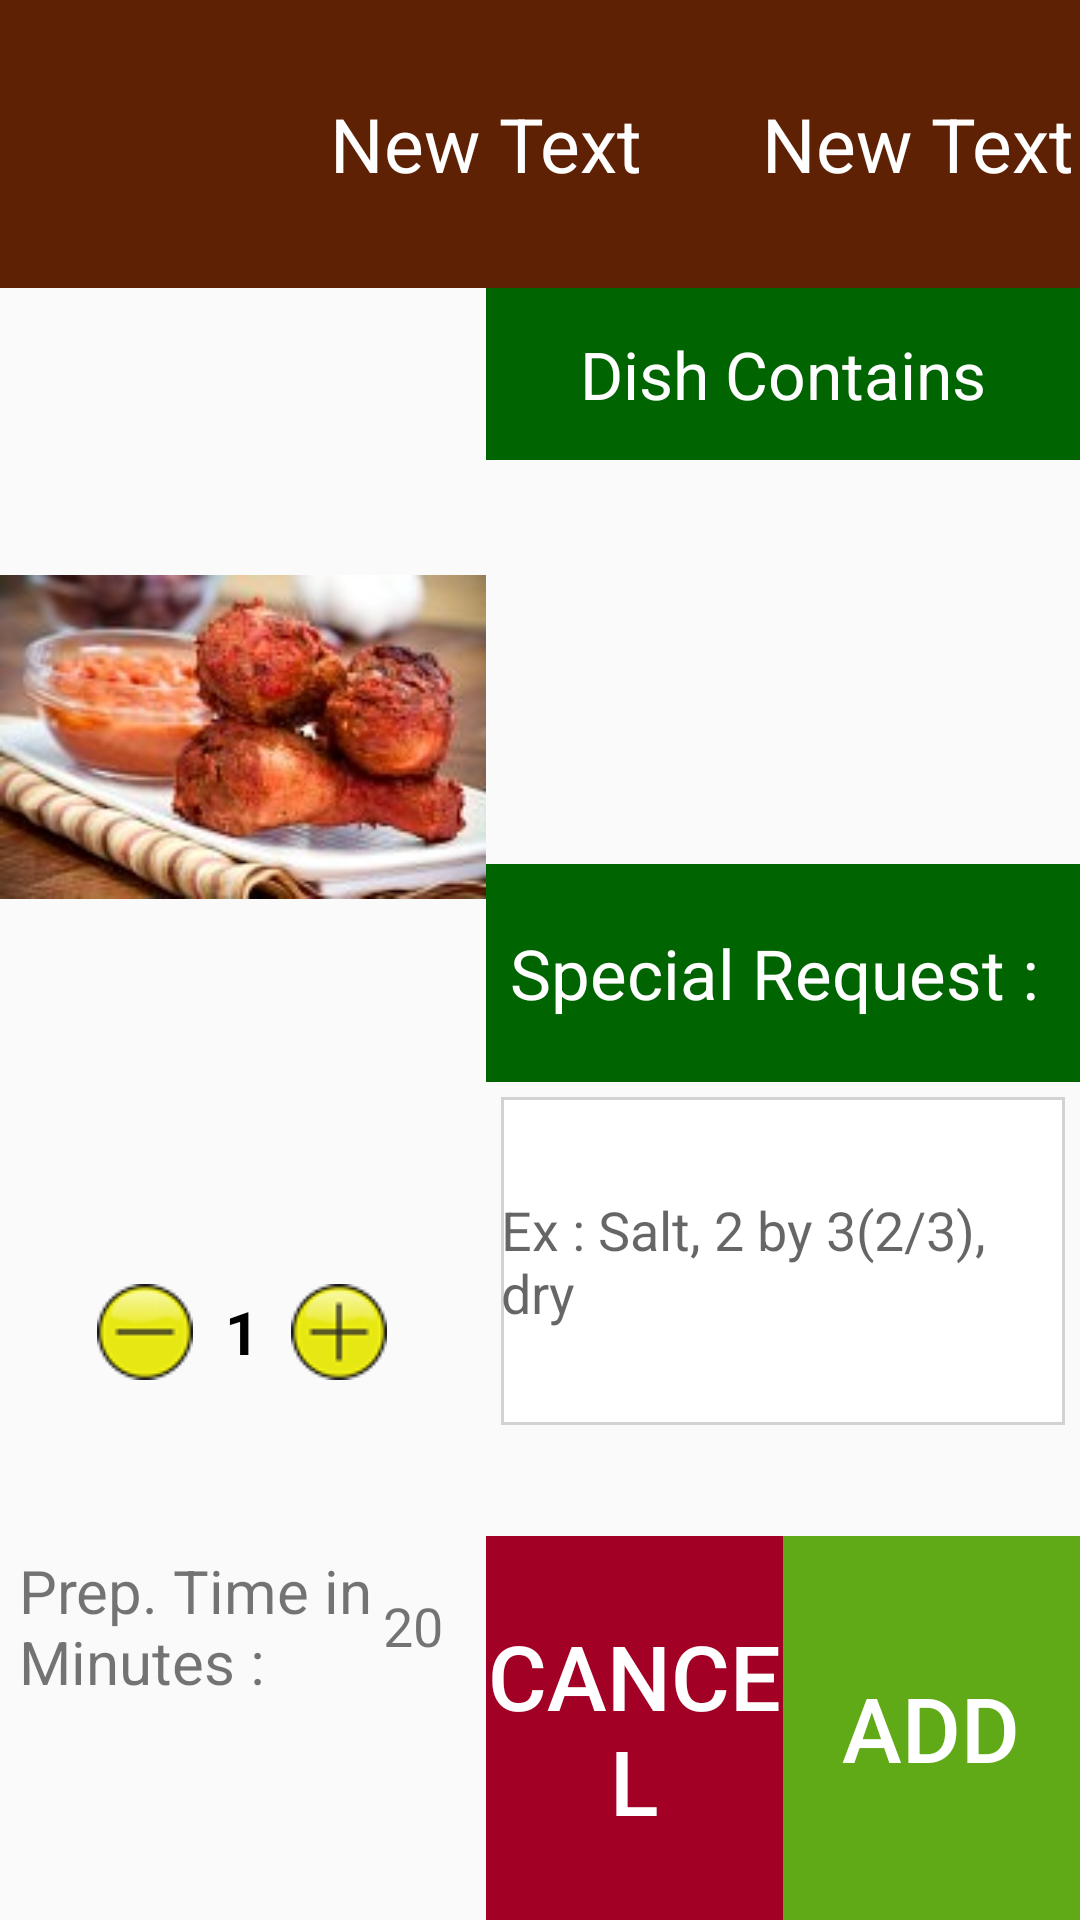

Where icons sit on this 1080px×1920px app screen, as BBox(x1, y1, x2, y2):
minus: BBox(97, 1284, 193, 1380)
plus: BBox(291, 1284, 387, 1380)
